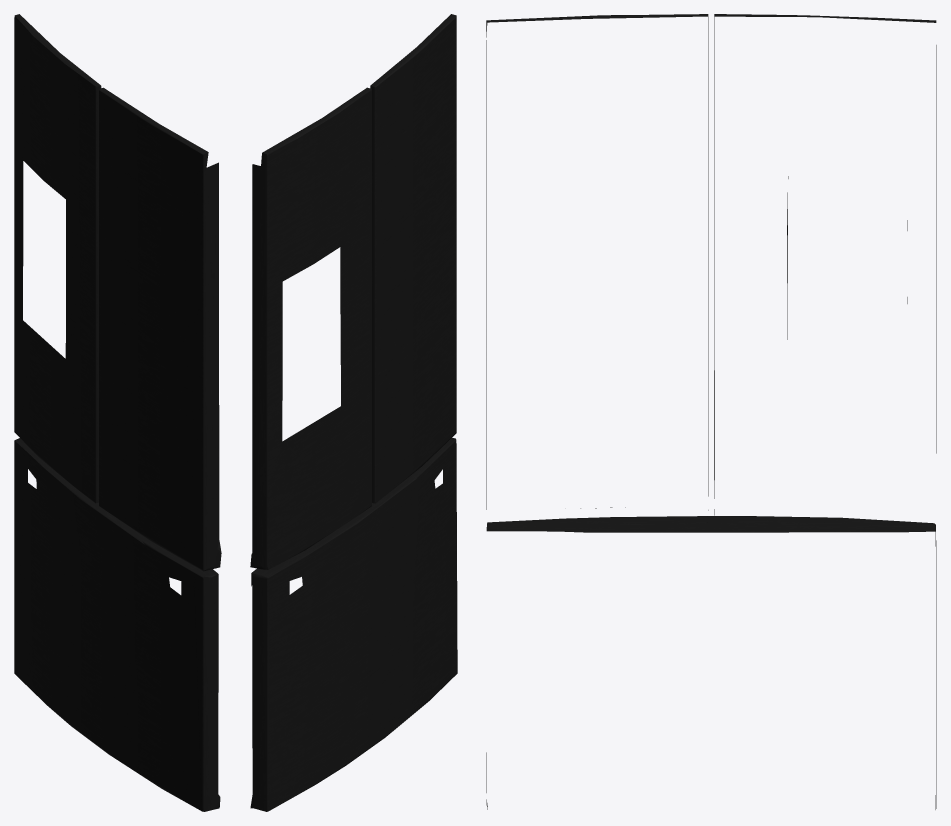
The model's file is baking_13.glb.
The picture shows the model from 3 angles, left to right: view 1: azimuth 30°, elevation 25°; view 2: azimuth 150°, elevation 25°; view 3: azimuth 270°, elevation 25°; orthographic projection. The views are drawn at different scales.
Parts seen in each view (by area): view 1: StaticMeshActor_49_001; view 2: StaticMeshActor_49_001; view 3: StaticMeshActor_49_001.
Part boxes in pixels (x1,y1,x2,y2): StaticMeshActor_49_001: (14, 14, 221, 811); StaticMeshActor_49_001: (250, 14, 457, 811); StaticMeshActor_49_001: (486, 14, 936, 809).
Bounding box in the file's own units: 0.0836 × 1.74 × 0.9089.
Materials: 1 (1 with a texture image).
